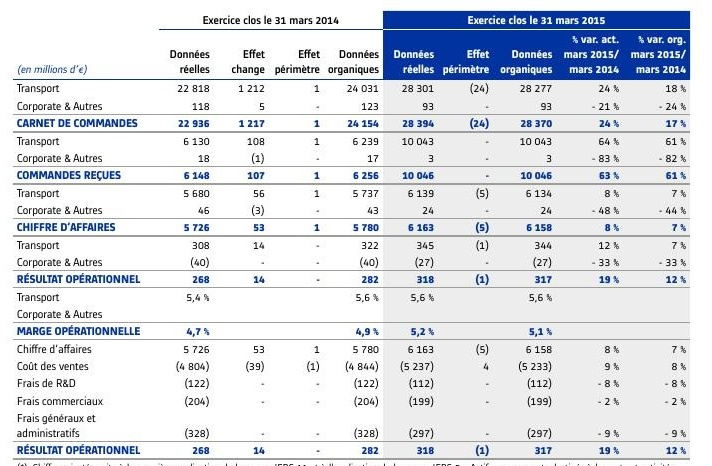table: (0, 0, 712, 466)
